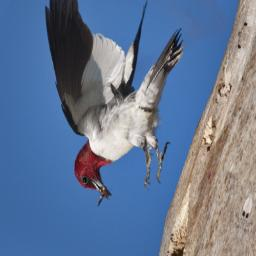Woodpecker: (4, 0, 203, 229)
